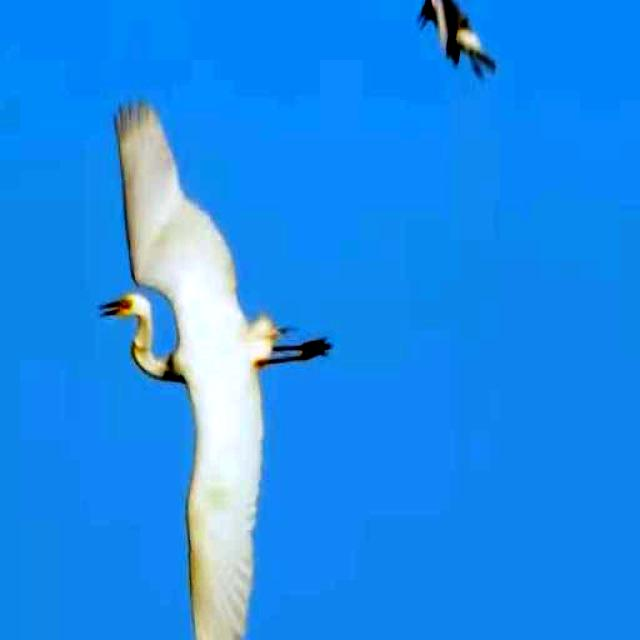airplane: (100, 84, 331, 640), (412, 0, 498, 79)
